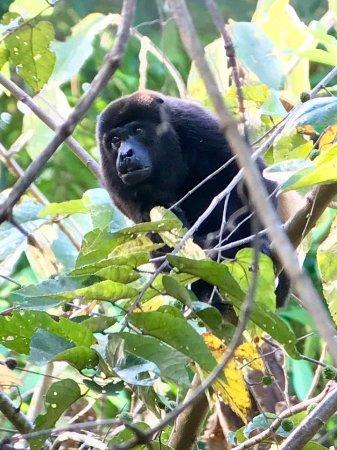monkey: (96, 90, 266, 263)
